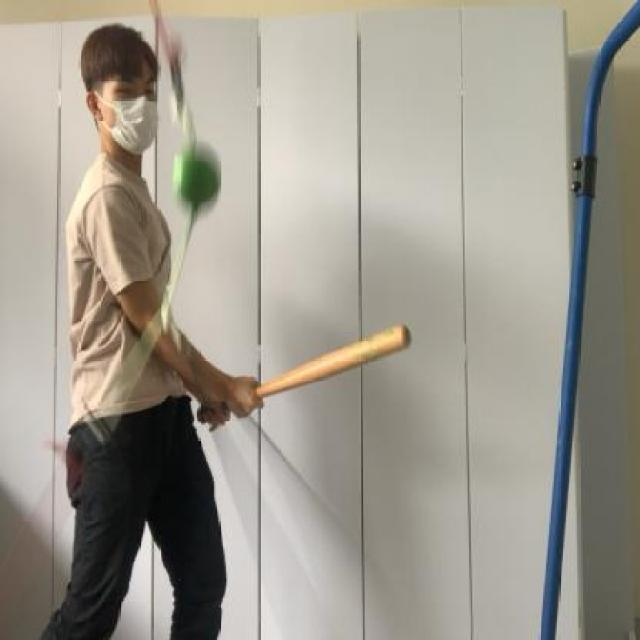baseball: (168, 128, 226, 222)
